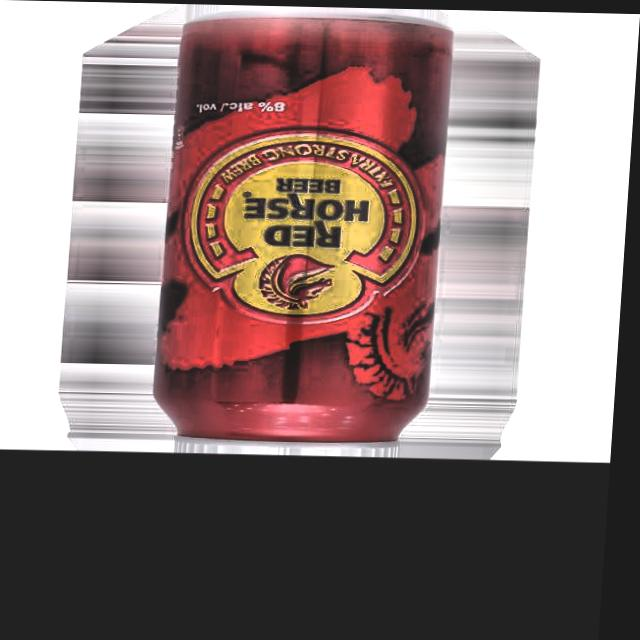can: (152, 4, 461, 452)
